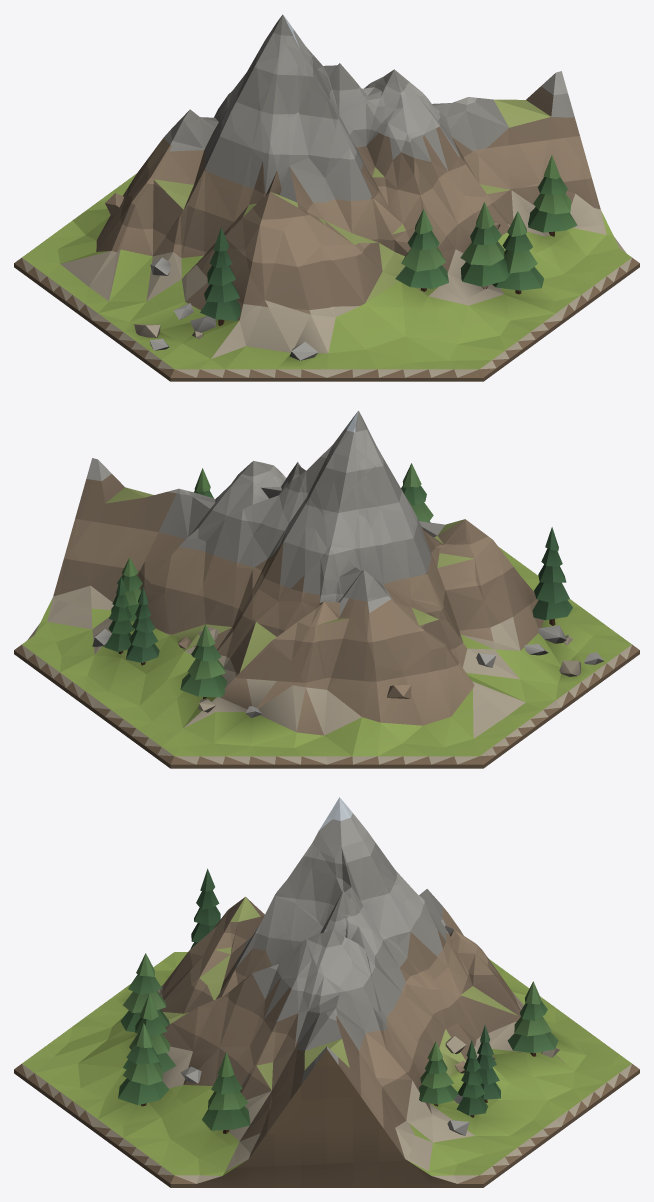
File: mountain_ridge_end.glb
The picture shows the model from 3 angles, top to bottom: view 1: azimuth 30°, elevation 25°; view 2: azimuth 150°, elevation 25°; view 3: azimuth 270°, elevation 25°; orthographic projection.
Visible parts, largest first — view 1: mountain_ridge_end; view 2: mountain_ridge_end; view 3: mountain_ridge_end.
Boxes of the visible parts, left/top/right/bottom form: mountain_ridge_end: left=14, top=14, right=639, bottom=381; mountain_ridge_end: left=14, top=410, right=639, bottom=768; mountain_ridge_end: left=14, top=797, right=639, bottom=1187.
Size of the model in its own units: 17.32 by 9.09 by 20.
